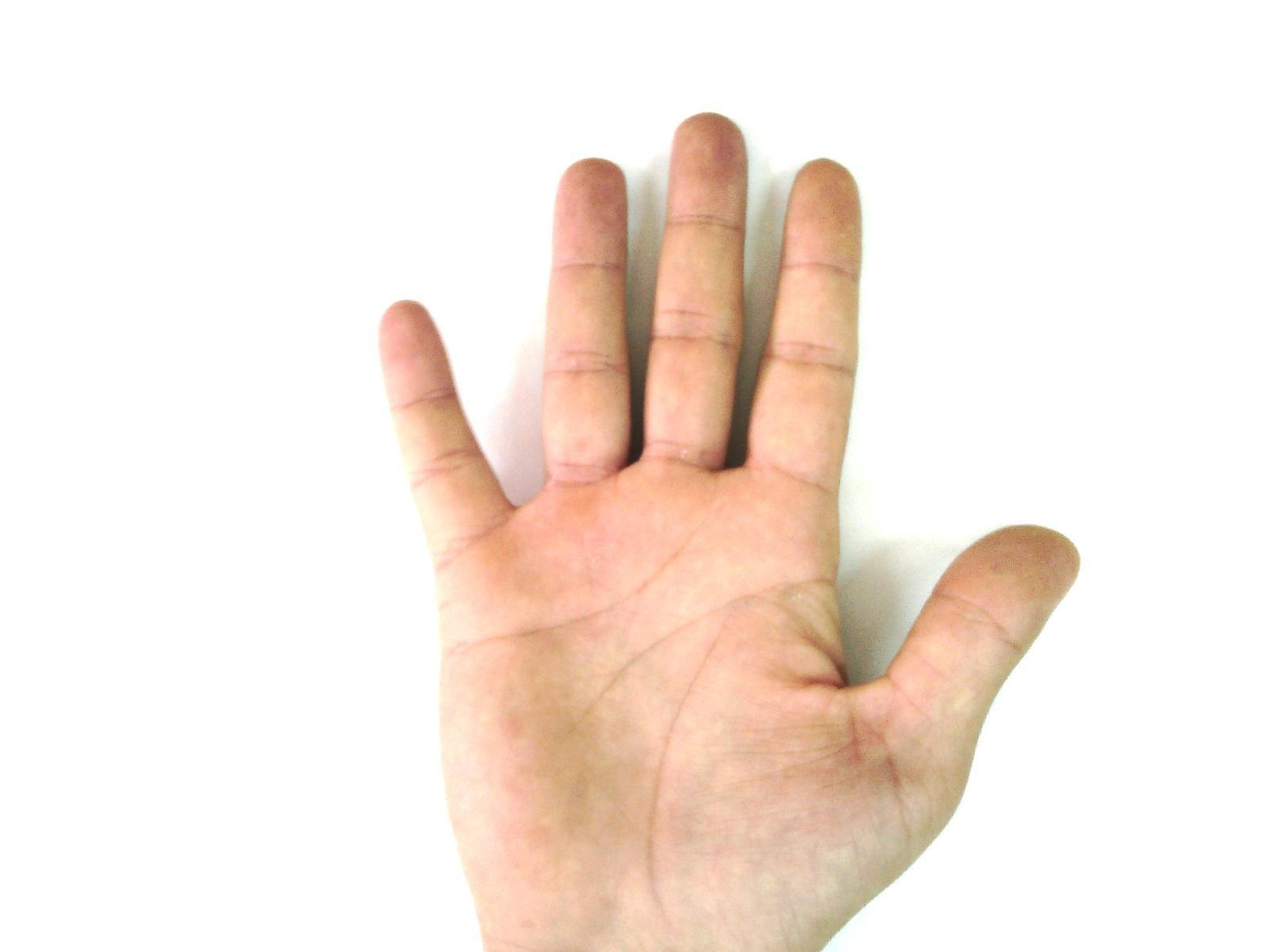open_palm: (374, 111, 1083, 951)
